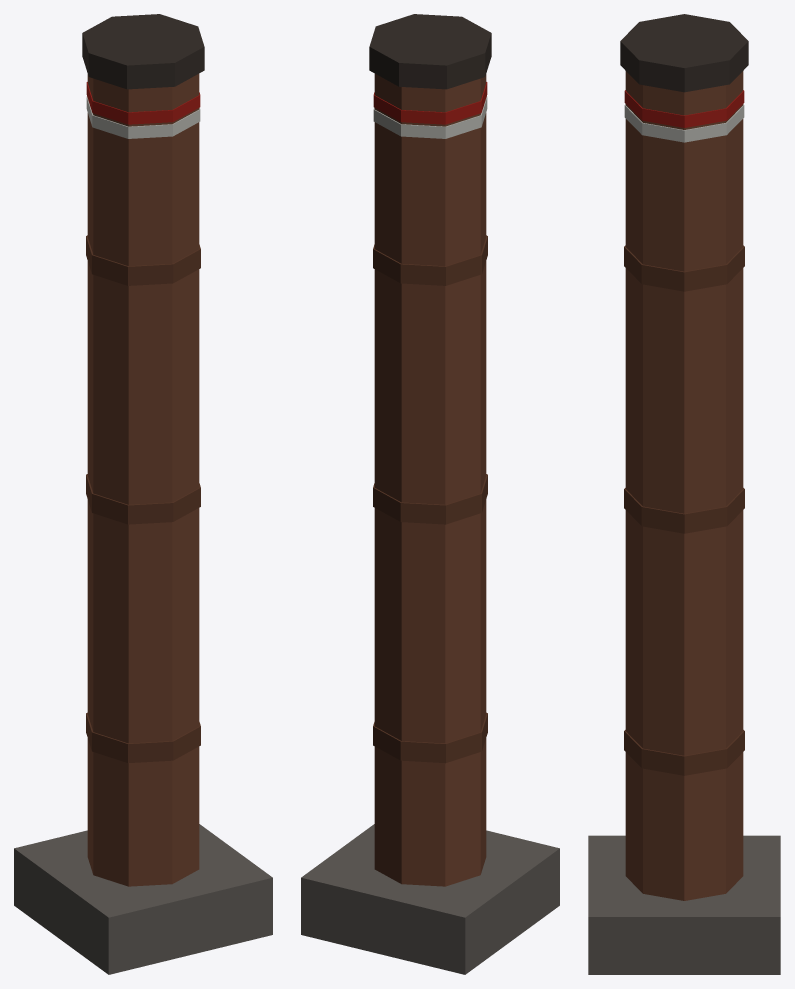
File: bg_industrial_chimney_1_lod1.glb
3 renders of one model, left to right at view 1: azimuth 30°, elevation 25°; view 2: azimuth 150°, elevation 25°; view 3: azimuth 270°, elevation 25°, orthographic.
Visible parts, largest first — view 1: body; view 2: body; view 3: body.
Boxes of the visible parts, bbox=[...] form: body: bbox=[14, 14, 272, 974]; body: bbox=[301, 14, 559, 974]; body: bbox=[588, 14, 780, 974].
Size of the model in its own units: 3.6 by 18.45 by 3.6.
